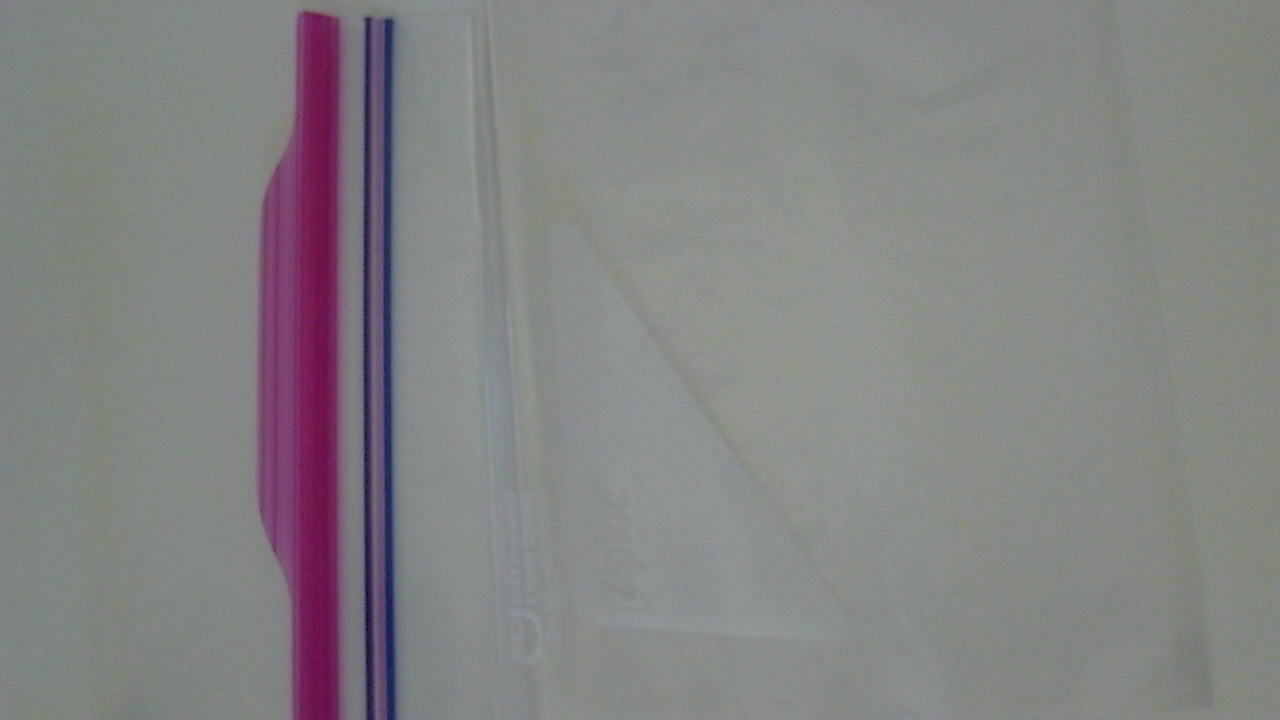Plastic Bag: (262, 13, 1194, 720)
